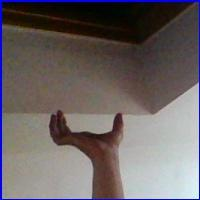space: (44, 108, 138, 157)
